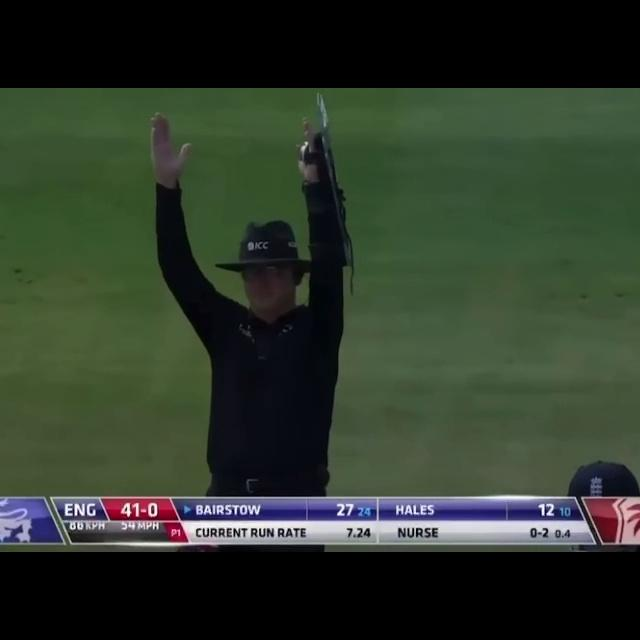umpire: (129, 95, 365, 496)
